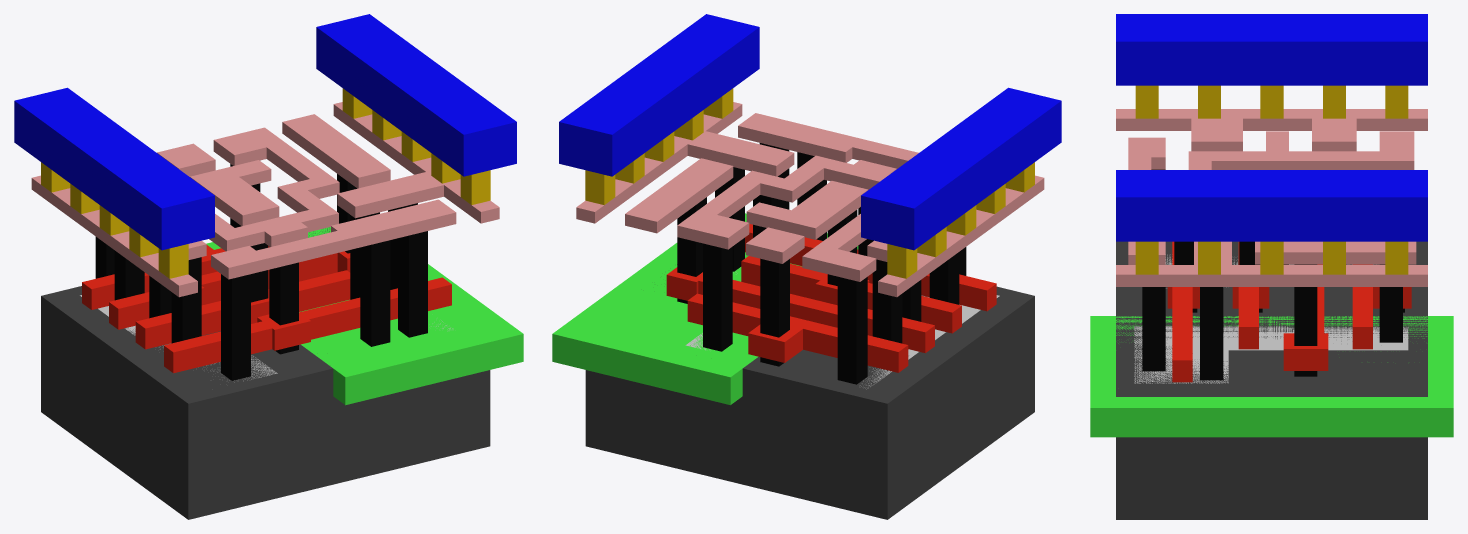
The model's file is sky130_fd_sc_hd__or3_1.obj.
The picture shows the model from 3 angles, left to right: view 1: azimuth 30°, elevation 25°; view 2: azimuth 150°, elevation 25°; view 3: azimuth 270°, elevation 25°; orthographic projection. The views are drawn at different scales.
Visible parts, largest first — view 1: subs, metal1, li, licon, poly, nwell, mcon; view 2: subs, metal1, li, licon, nwell, poly, mcon; view 3: subs, metal1, li, nwell, licon, mcon, poly, tap.
Boxes of the visible parts, bbox=[...] form: subs: bbox=[41, 227, 490, 519]; metal1: bbox=[14, 14, 516, 250]; li: bbox=[31, 102, 499, 297]; licon: bbox=[95, 164, 427, 380]; poly: bbox=[82, 245, 451, 373]; nwell: bbox=[206, 227, 523, 405]; mcon: bbox=[41, 88, 490, 278]; subs: bbox=[585, 253, 1034, 519]; metal1: bbox=[559, 14, 1061, 250]; li: bbox=[576, 102, 1044, 297]; licon: bbox=[677, 143, 966, 384]; nwell: bbox=[552, 213, 858, 405]; poly: bbox=[666, 224, 996, 372]; mcon: bbox=[585, 88, 1034, 278]; subs: bbox=[1116, 241, 1427, 519]; metal1: bbox=[1116, 14, 1427, 241]; li: bbox=[1116, 109, 1427, 286]; nwell: bbox=[1090, 316, 1453, 437]; licon: bbox=[1142, 169, 1404, 380]; mcon: bbox=[1135, 85, 1408, 274]; poly: bbox=[1167, 241, 1411, 382]; tap: bbox=[1134, 326, 1408, 383].
Bounding box in the file's own units: 3.2 × 2.74 × 2.68.
